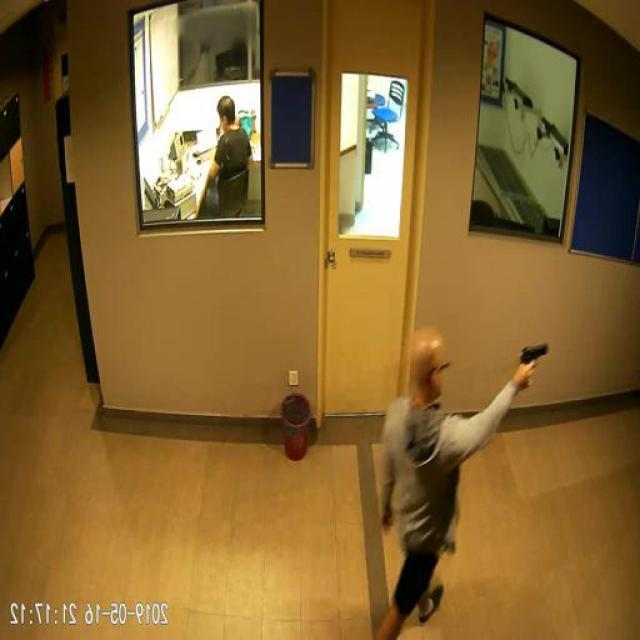weapon: (518, 343, 550, 382)
